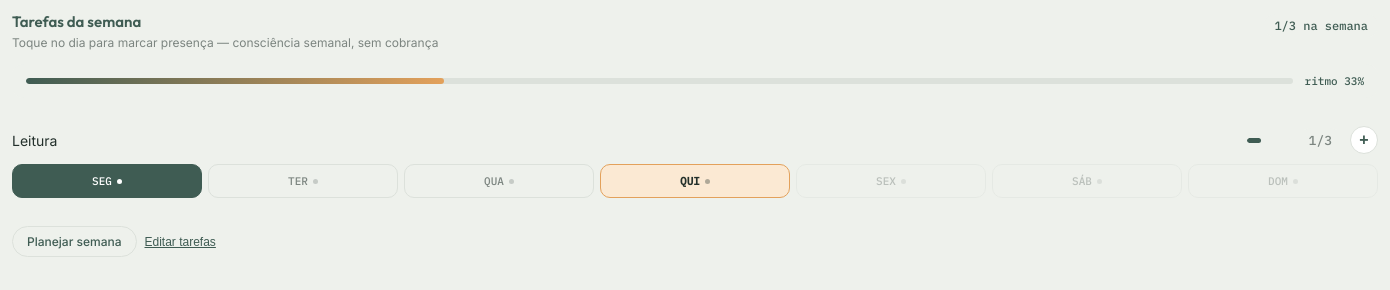
Scenario: WeeklyTasksPanel rhythm › reports failure and rolls back the optimistic marking
The width and height of the screenshot is (1390, 290).
Click the button with aria-label "Leitura: TER" at (303, 181), box x1=208 y1=164 x2=398 y2=198
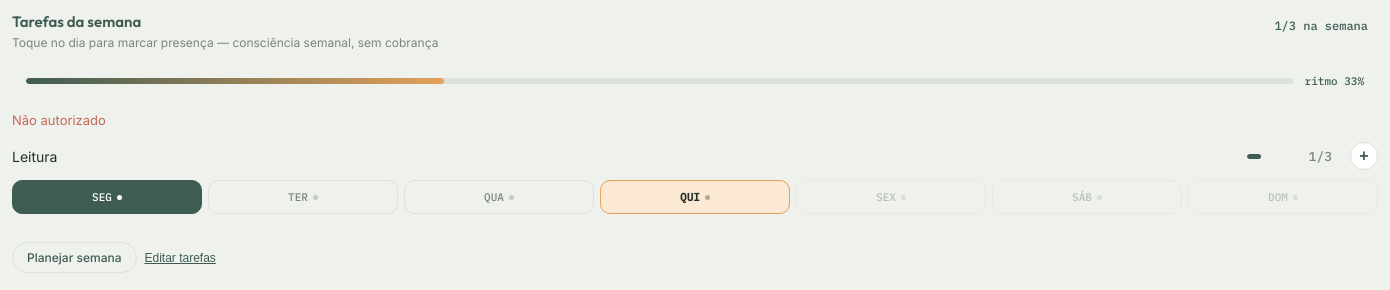
Check: the message reads "Não autorizado", box x1=12 y1=112 x2=106 y2=128
